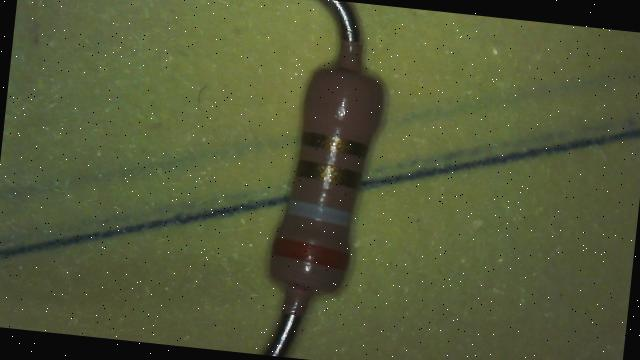gold: (296, 160, 361, 188), (300, 132, 369, 158)
orange: (271, 237, 350, 271)
resistor: (227, 35, 415, 323)
white: (286, 199, 352, 227)
